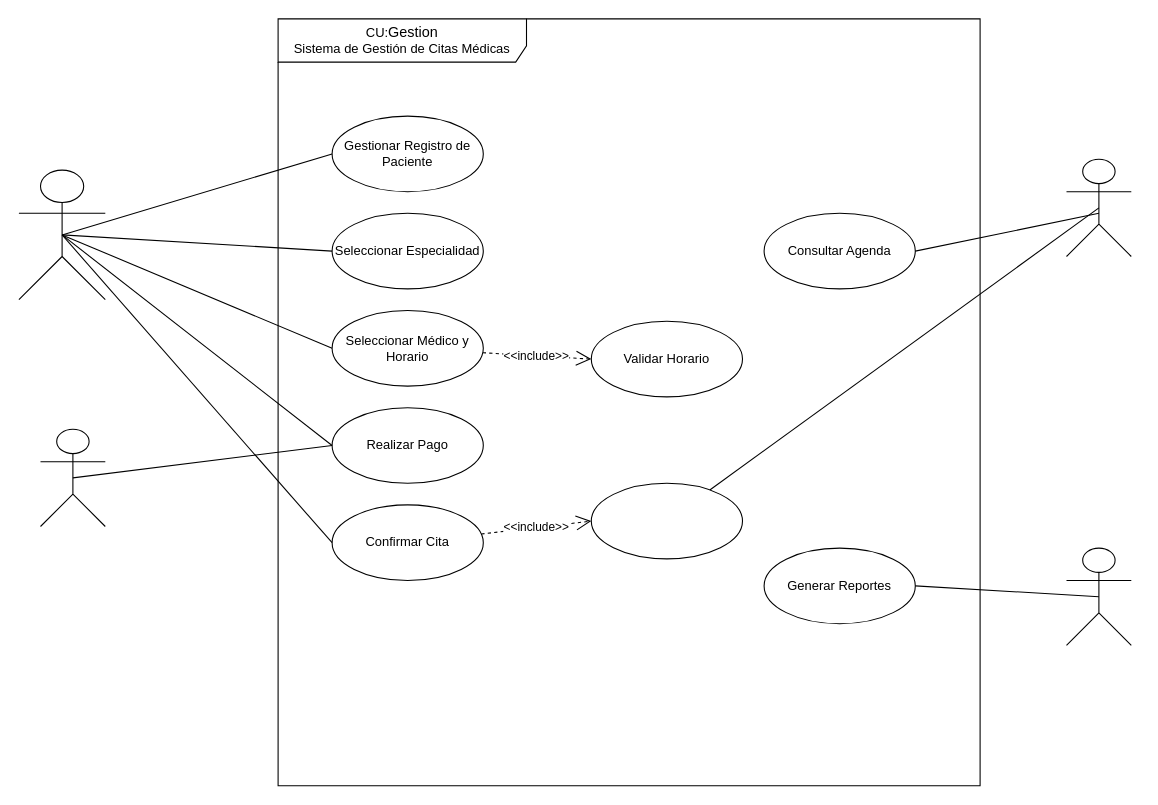
The diagram is 1158 pixels wide and 805 high, and some of its shapes have lost their labels. The shapes that lost their labels are listed below. From the top down, each one's centre as x and y in pixels, then its label:
(x=1098, y=207): Médico
(x=61, y=234): Paciente
(x=72, y=477): Sistema de Pago
(x=666, y=520): Enviar Confirmación
(x=1098, y=596): Administrador
